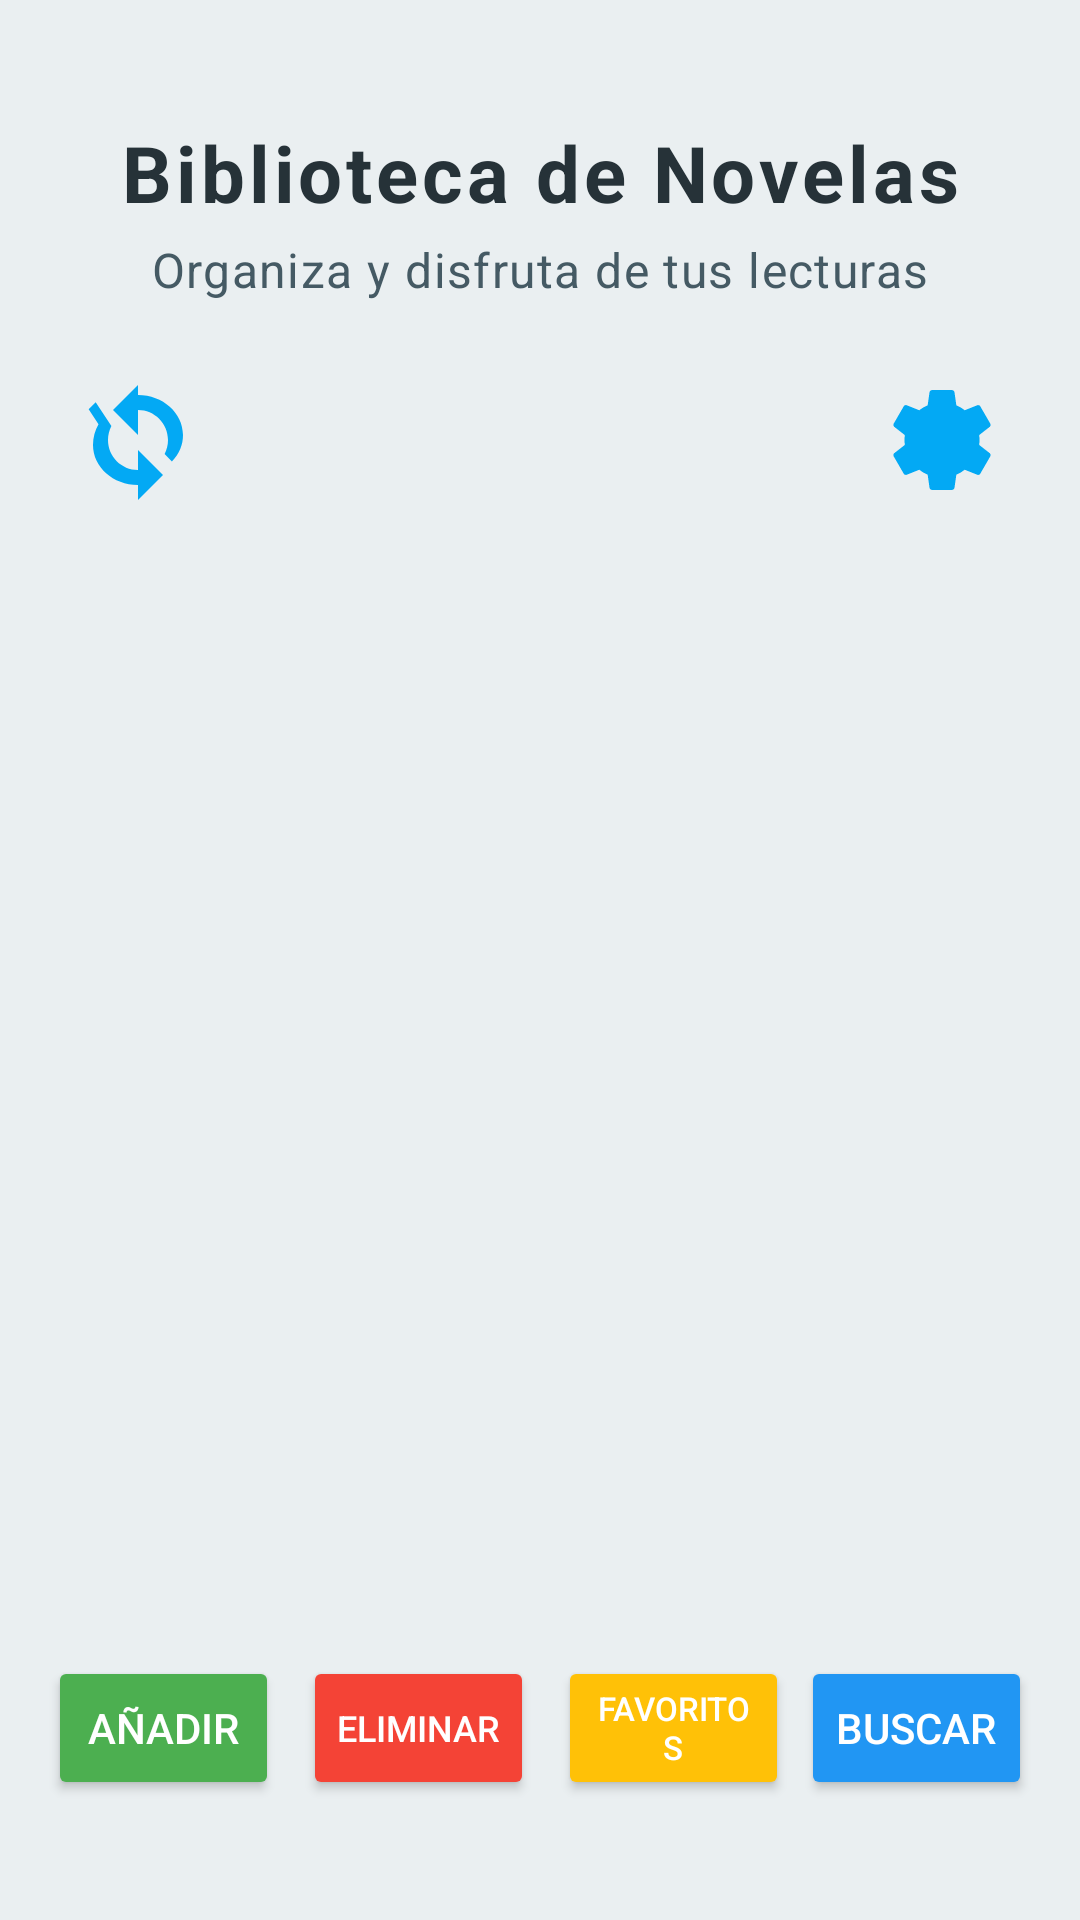

Icon click points for this 1080px x 1920px phone screenshot, format (x,y):
Botón de sincronización: (135,442)
Settings: (942,440)
